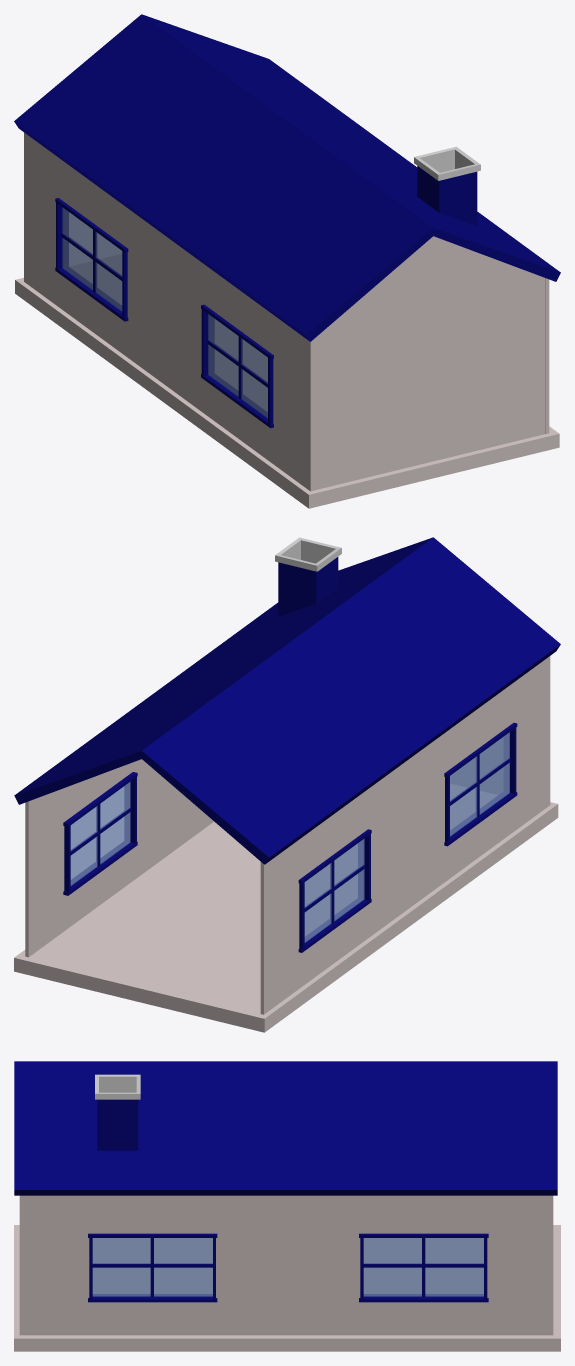
File: MainHouse.fbx
3 renders of one model, top to bottom at view 1: azimuth 30°, elevation 25°; view 2: azimuth 150°, elevation 25°; view 3: azimuth 270°, elevation 25°, orthographic. The views are drawn at different scales.
Parts seen in each view (by area): view 1: polySurface85; view 2: polySurface85; view 3: polySurface85.
Boxes of the visible parts, left/top/right/bottom form: polySurface85: left=14, top=14, right=560, bottom=508; polySurface85: left=14, top=537, right=560, bottom=1032; polySurface85: left=14, top=1061, right=560, bottom=1351.
Size of the model in its own units: 6.7 by 6.52 by 13.36.
